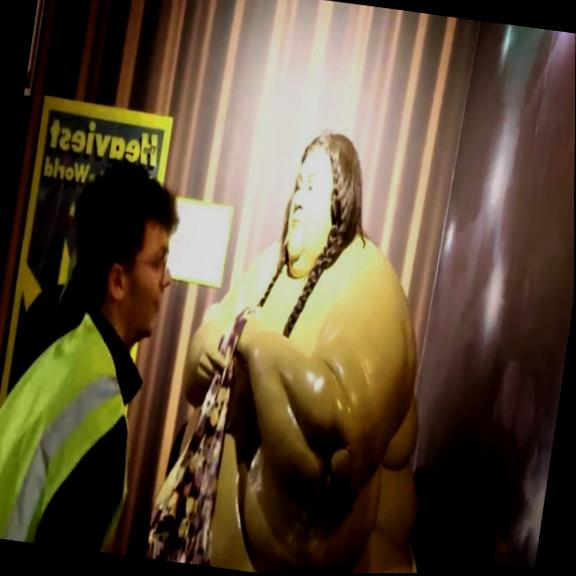safety_vest: (0, 294, 155, 555)
